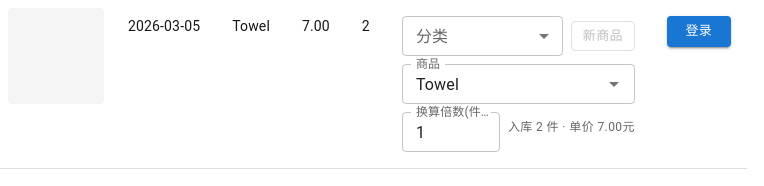
Test: ExtractedResultRow › hides the error when the product changes
Click the button "登录" at (699, 31), box [667, 16, 731, 47]
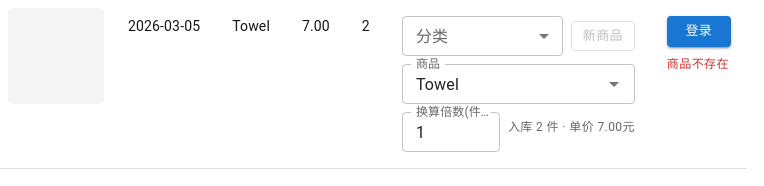
Now the message reads "商品不存在", box [667, 57, 729, 71]
